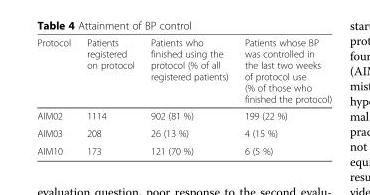table: (36, 36, 331, 156)
table column: (235, 36, 331, 156), (141, 36, 235, 156), (78, 36, 141, 156), (36, 36, 78, 156)
table column header: (36, 36, 331, 107)
table row: (36, 36, 331, 107), (36, 107, 331, 124), (36, 124, 331, 141), (36, 141, 331, 156)
